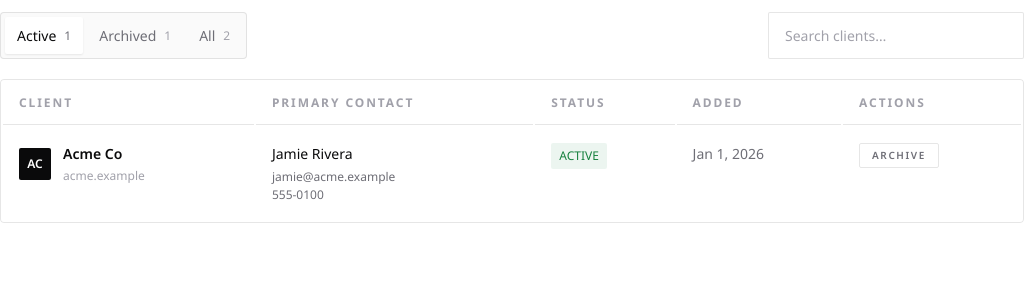
Test case: ClientsTable › filters by search across name and contact
Click the tab "All 2" at (215, 36), box x1=187 y1=17 x2=242 y2=54
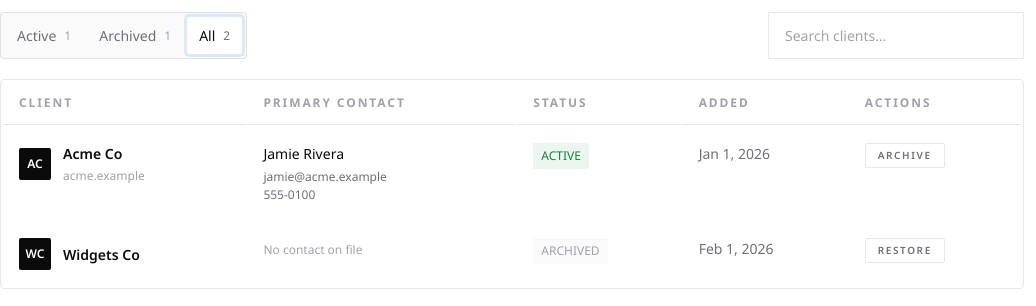
Type "jamie" into the search field labelled "Search clients" at (896, 36), box x1=768 y1=12 x2=1024 y2=59
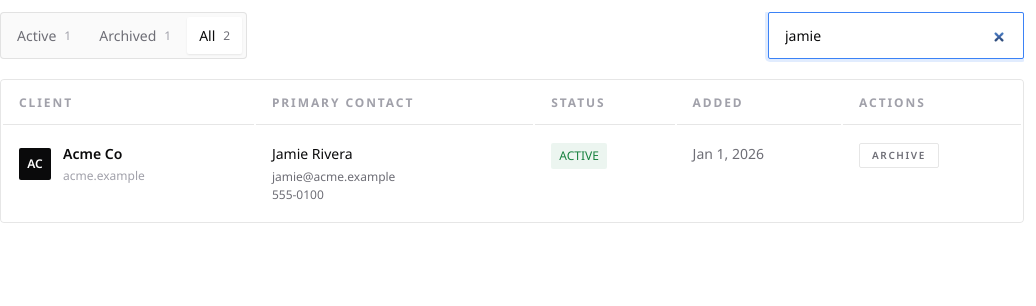
expect the text "Acme Co" is shown: met, box x1=63 y1=144 x2=122 y2=163
expect the link "Widgets Co" is gone: met
